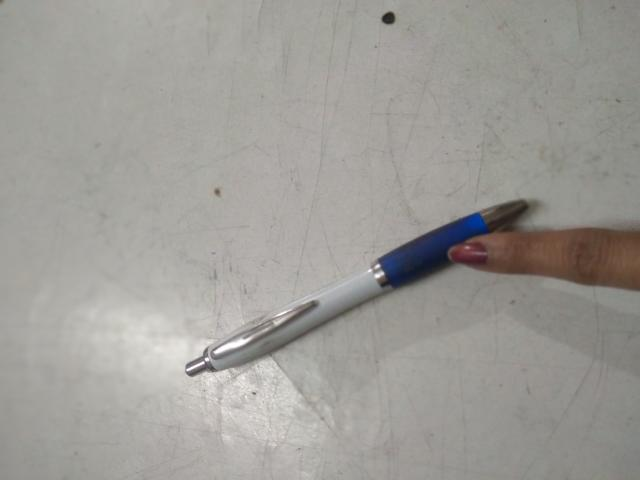PEN: (86, 171, 285, 480)
